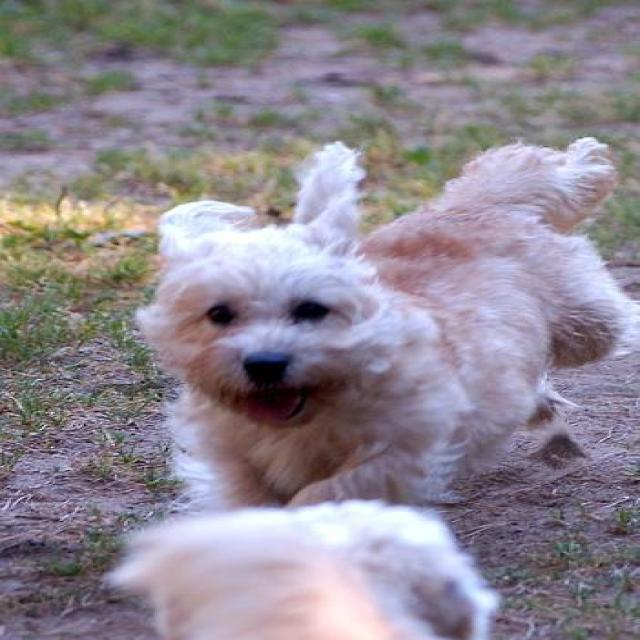dandie_dinmont: (130, 137, 629, 507), (84, 500, 520, 638)
